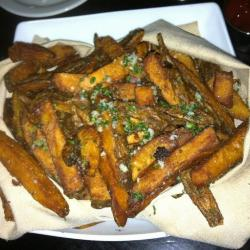fries: (18, 53, 219, 193)
